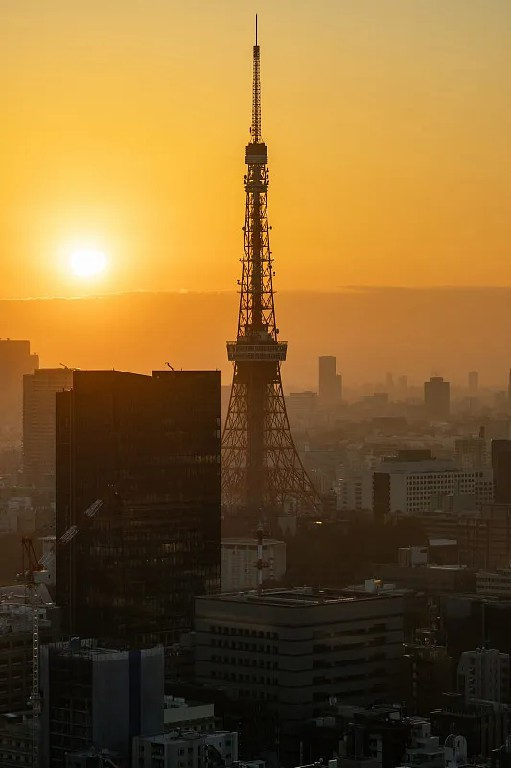Tokyo: (222, 10, 329, 525)
